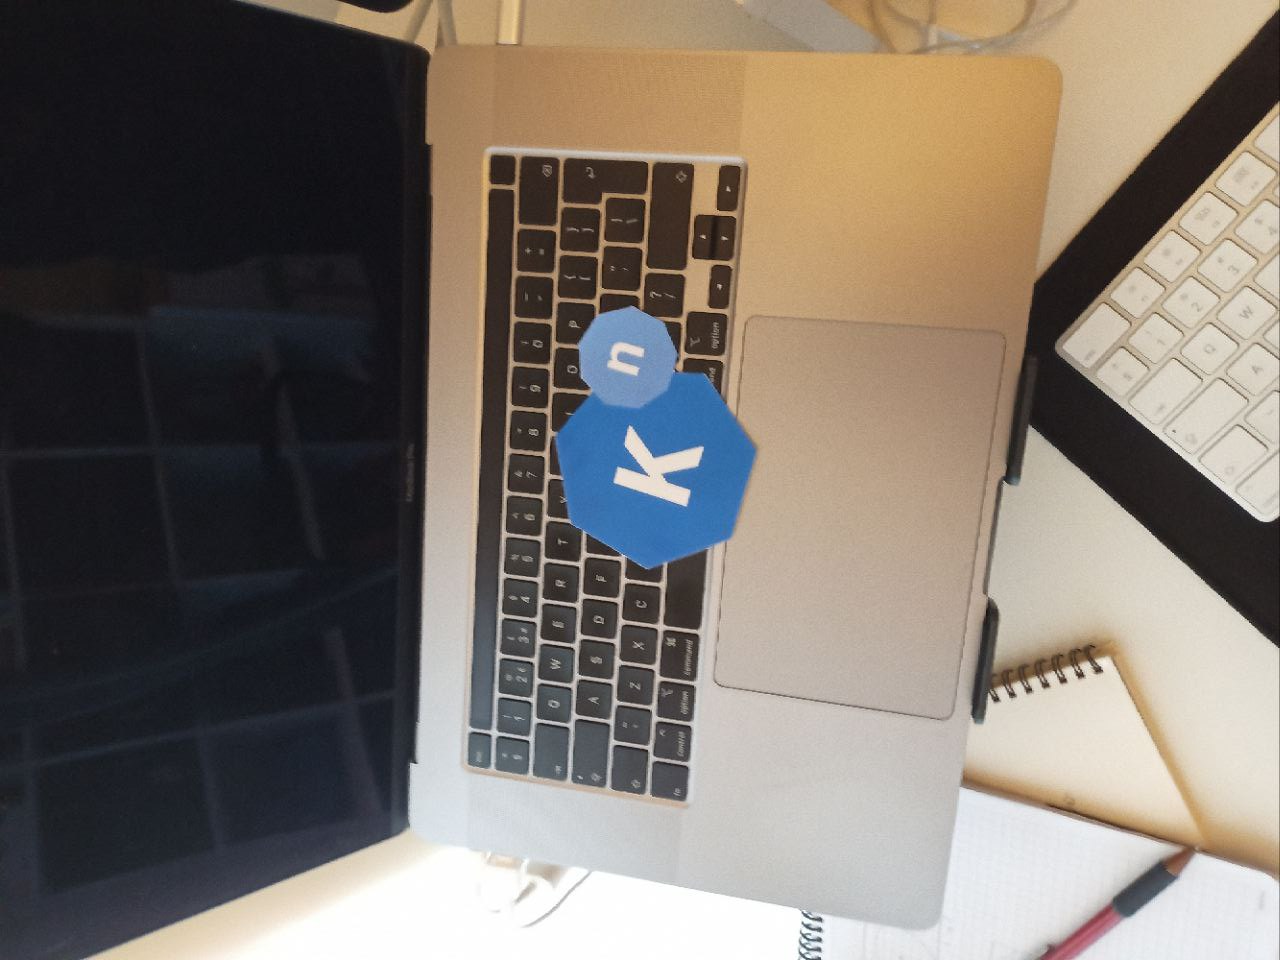knative: (554, 304, 760, 570)
